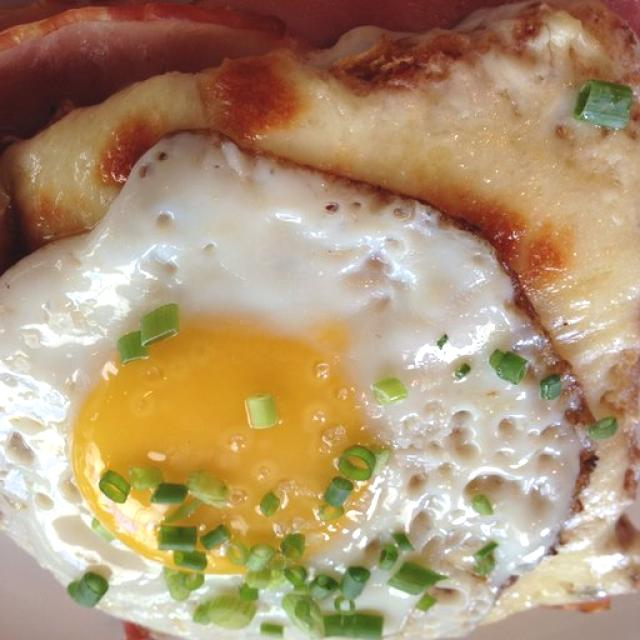telur ceplok: (0, 129, 608, 640)
